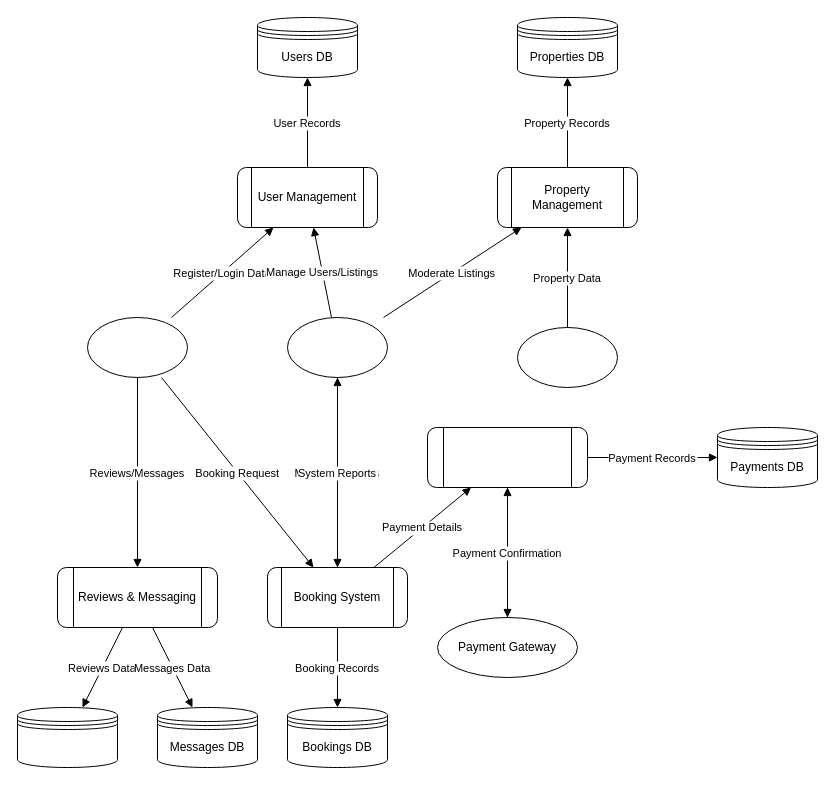
Image size: 835x785. Some labels were removed from this diagram. The centre of each missing label's shape, as x and y in pixels:
Admin: [337,347]
Guest: [137,347]
Host: [567,357]
Payment Processing: [507,457]
Reviews DB: [67,737]
